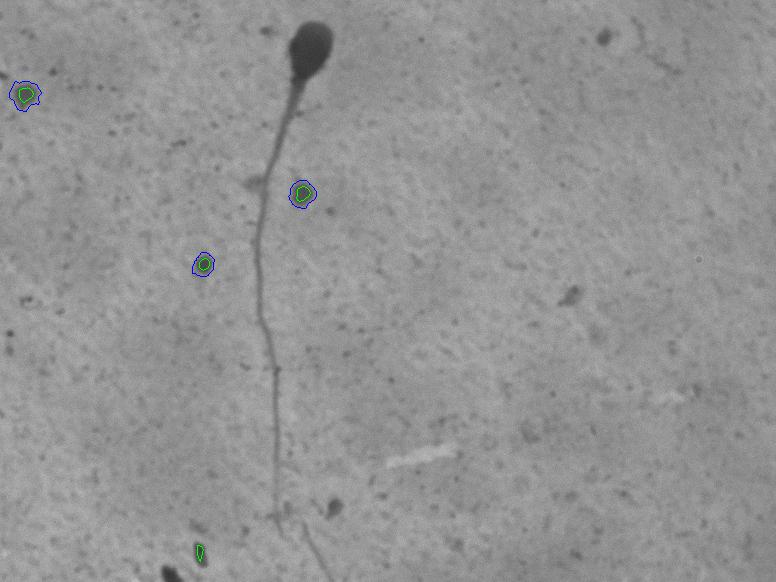Normal: (203, 17, 364, 518)
